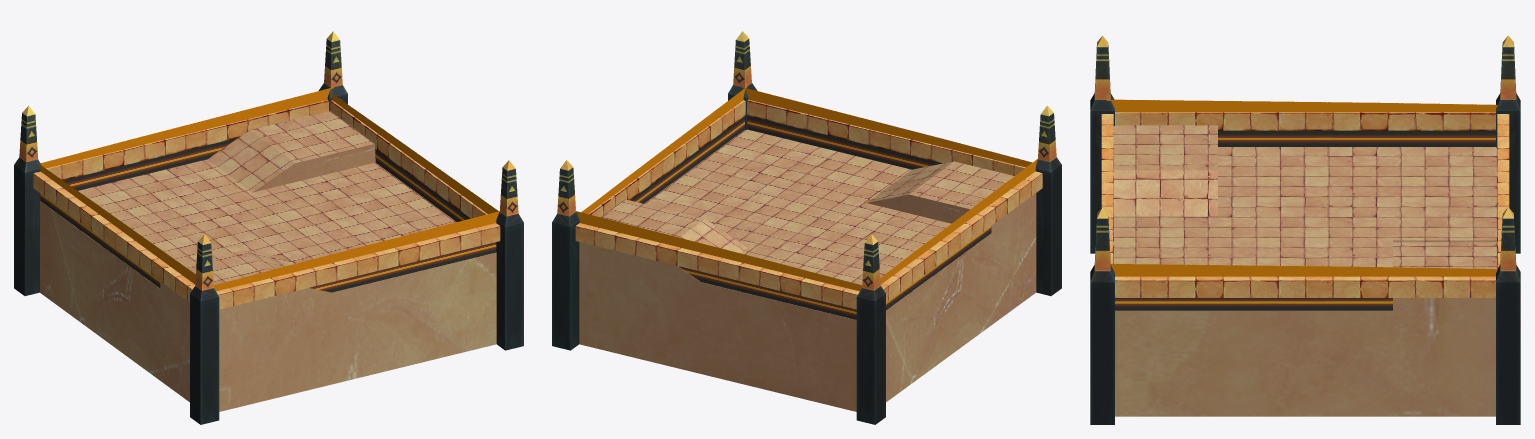
File: Duel_Stage 33.fbx
3 views of the same model, side by side, from view 1: azimuth 30°, elevation 25°; view 2: azimuth 150°, elevation 25°; view 3: azimuth 270°, elevation 25° (orthographic). The views are drawn at different scales.
Visible parts, largest first — view 1: CR_Platform_Cube.022, CR_Platform_Cube.023, Cube.102, Plane.150; view 2: CR_Platform_Cube.022, CR_Platform_Cube.023, Cube.102, Plane.150; view 3: CR_Platform_Cube.022, CR_Platform_Cube.023, Cube.102, Plane.150.
Boxes of the visible parts, x1,y1,x2,y2 form: CR_Platform_Cube.022: [40, 111, 496, 411]; CR_Platform_Cube.023: [33, 99, 500, 309]; Cube.102: [14, 31, 523, 424]; Plane.150: [39, 87, 500, 291]; CR_Platform_Cube.022: [579, 129, 1036, 411]; CR_Platform_Cube.023: [575, 99, 1042, 319]; Cube.102: [552, 31, 1061, 424]; Plane.150: [576, 87, 1037, 291]; CR_Platform_Cube.022: [1113, 125, 1497, 416]; CR_Platform_Cube.023: [1101, 112, 1509, 310]; Cube.102: [1090, 35, 1520, 424]; Plane.150: [1106, 99, 1497, 276].
Bounding box in the file's own units: 3687 × 2229 × 3686.
